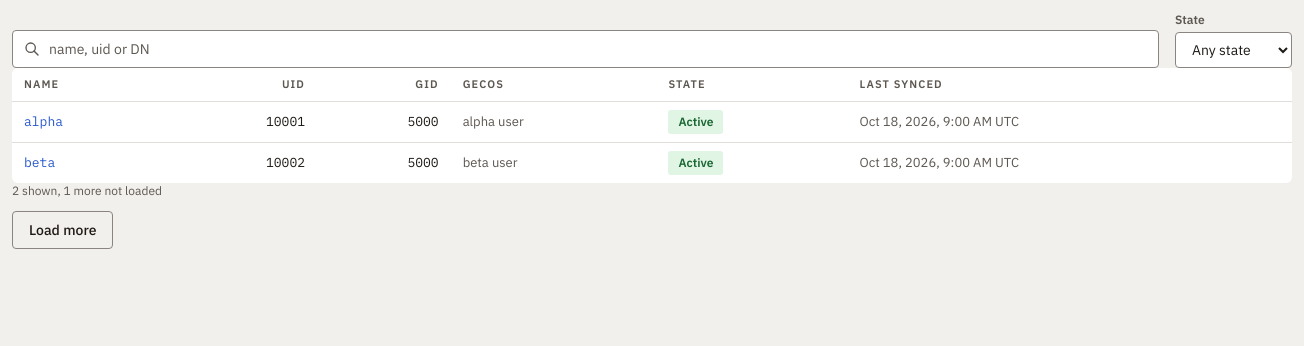
Test case: stored account list › should keep the loaded rows when Load more fails
Step 1. Click the button with test id "nss-list-load-more" → (63, 230), box [12,210,114,248]
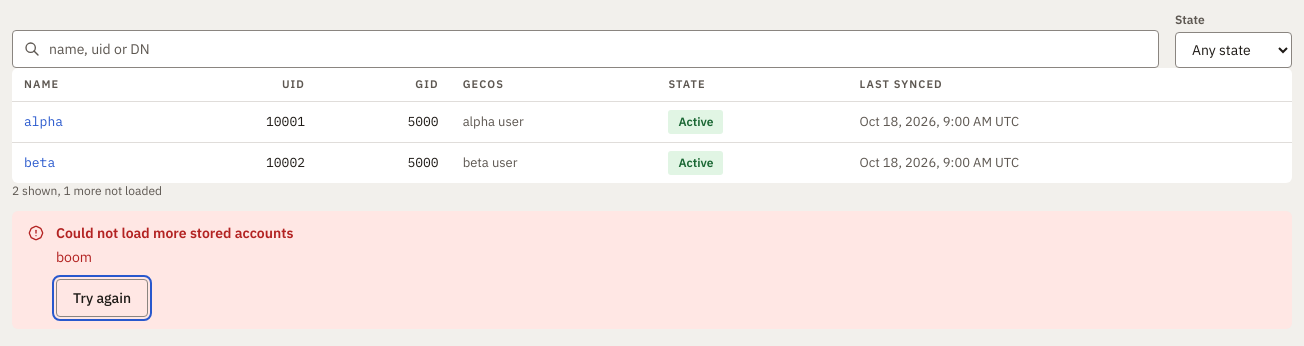
Check: the number of rows with test id "nss-list-row" is 2, box [12,101,1292,142]; [12,142,1292,182]
Check: the message "Could not load more stored accounts boom Try again" is shown, box [12,210,1292,328]
